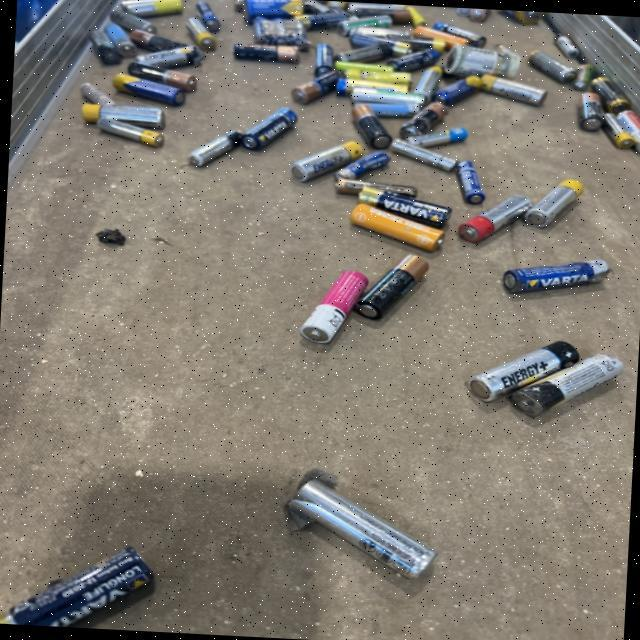AA: (286, 477, 437, 579), (288, 275, 377, 357)
AAA: (502, 258, 610, 293)
